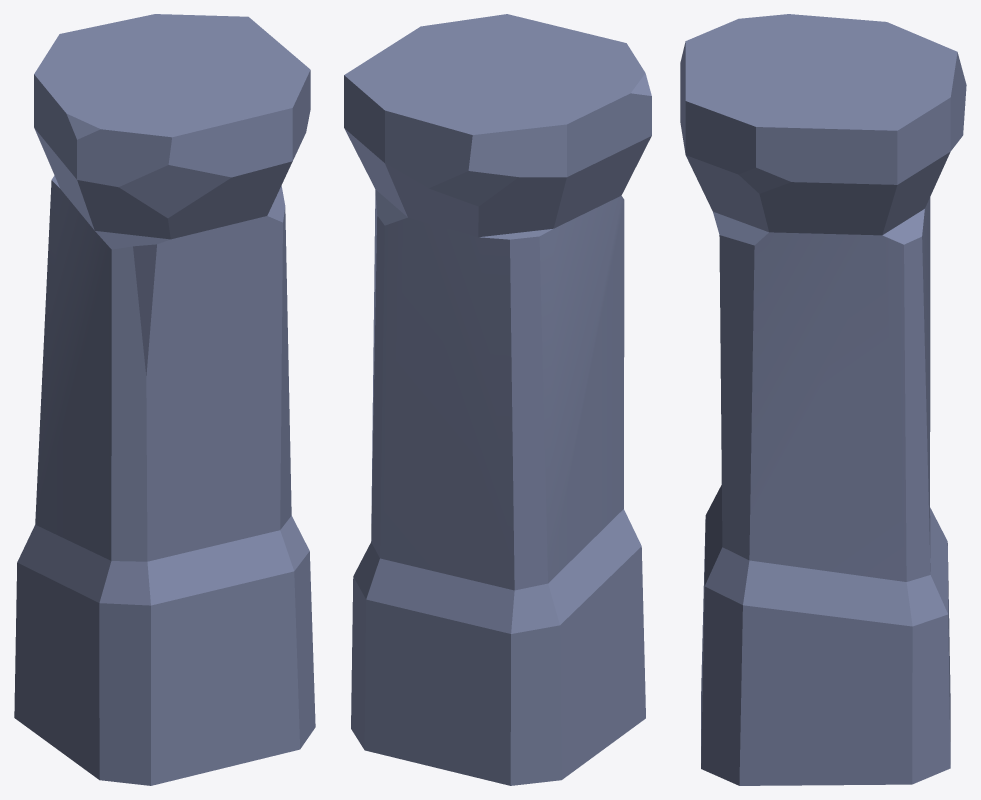
Rendered from Pillar.fbx.
3 renders of one model, left to right at view 1: azimuth 30°, elevation 25°; view 2: azimuth 150°, elevation 25°; view 3: azimuth 270°, elevation 25°, orthographic. The views are drawn at different scales.
Visible parts, largest first — view 1: pillar; view 2: pillar; view 3: pillar.
Part boxes in pixels (bbox=[...]): pillar: bbox=[14, 14, 315, 785]; pillar: bbox=[344, 14, 651, 785]; pillar: bbox=[680, 14, 966, 785].
Bounding box in the file's own units: 0.25 × 0.6455 × 0.2532.
